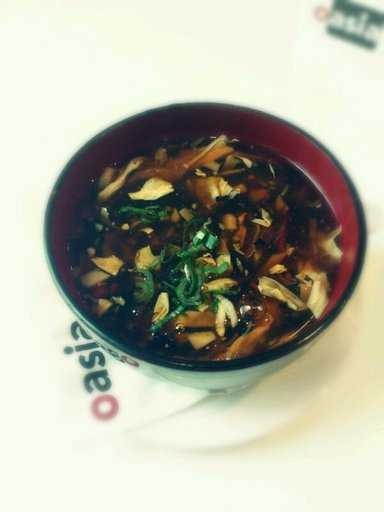soup: (52, 108, 358, 365)
